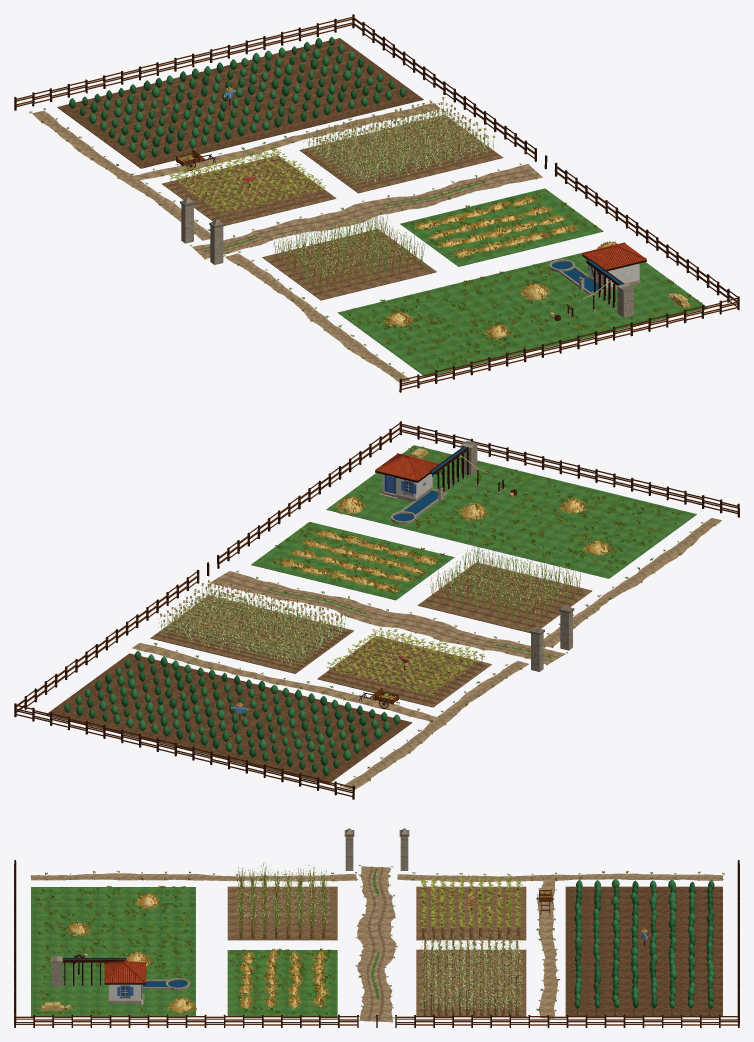
The model's file is farm_fields.gltf.
3 views of the same model, one above another, from view 1: azimuth 30°, elevation 25°; view 2: azimuth 150°, elevation 25°; view 3: azimuth 270°, elevation 25° (orthographic). The views are drawn at different scales.
Parts seen in each view (by area): view 1: farm_fields, Crops31, Crops69, Crops68, Crops33, Crops84, Crops34, Crops49, Crops50, Crops82, Crops67, Crops48 (+9 smaller); view 2: farm_fields, Crops31, Crops69, Crops68, Crops33, Crops84, Crops34, Crops49, Crops82, Crops50, Crops67, Crops48 (+9 smaller); view 3: farm_fields, Crops69, Crops31, Crops33, Crops84, Crops67, Crops49, Crops34, Crops50, Crops82, Crops459, Crops457 (+15 smaller).
Boxes of the visible parts, <box> form: farm_fields: <box>14,14,739,392</box>; Crops31: <box>89,44,392,160</box>; Crops69: <box>307,97,498,183</box>; Crops68: <box>309,100,493,187</box>; Crops33: <box>79,46,373,154</box>; Crops84: <box>274,213,417,291</box>; Crops34: <box>69,37,405,157</box>; Crops49: <box>169,146,315,214</box>; Crops50: <box>186,148,325,209</box>; Crops82: <box>279,217,410,283</box>; Crops67: <box>303,105,493,183</box>; Crops48: <box>170,151,323,221</box>; farm_fields: <box>14,421,739,799</box>; Crops31: <box>75,654,400,762</box>; Crops69: <box>159,580,349,664</box>; Crops68: <box>160,582,345,667</box>; Crops33: <box>87,665,375,772</box>; Crops84: <box>430,549,581,625</box>; Crops34: <box>64,651,387,776</box>; Crops49: <box>326,629,484,695</box>; Crops82: <box>451,550,571,623</box>; Crops50: <box>332,627,471,687</box>; Crops67: <box>157,583,346,664</box>; Crops48: <box>329,633,482,701</box>; farm_fields: <box>14,828,739,1027</box>; Crops69: <box>419,930,523,1012</box>; Crops31: <box>574,879,714,1008</box>; Crops33: <box>574,880,714,1008</box>; Crops84: <box>236,867,327,935</box>; Crops67: <box>419,936,522,1012</box>; Crops49: <box>420,875,522,929</box>; Crops34: <box>574,880,714,1008</box>; Crops50: <box>421,874,521,928</box>; Crops82: <box>236,863,326,931</box>; Crops459: <box>35,886,194,1014</box>; Crops457: <box>33,885,193,1014</box>.
Size of what is drawn, in the model's own units: 48.5 by 6.13 by 92.3.
14 materials, 9 textured.
